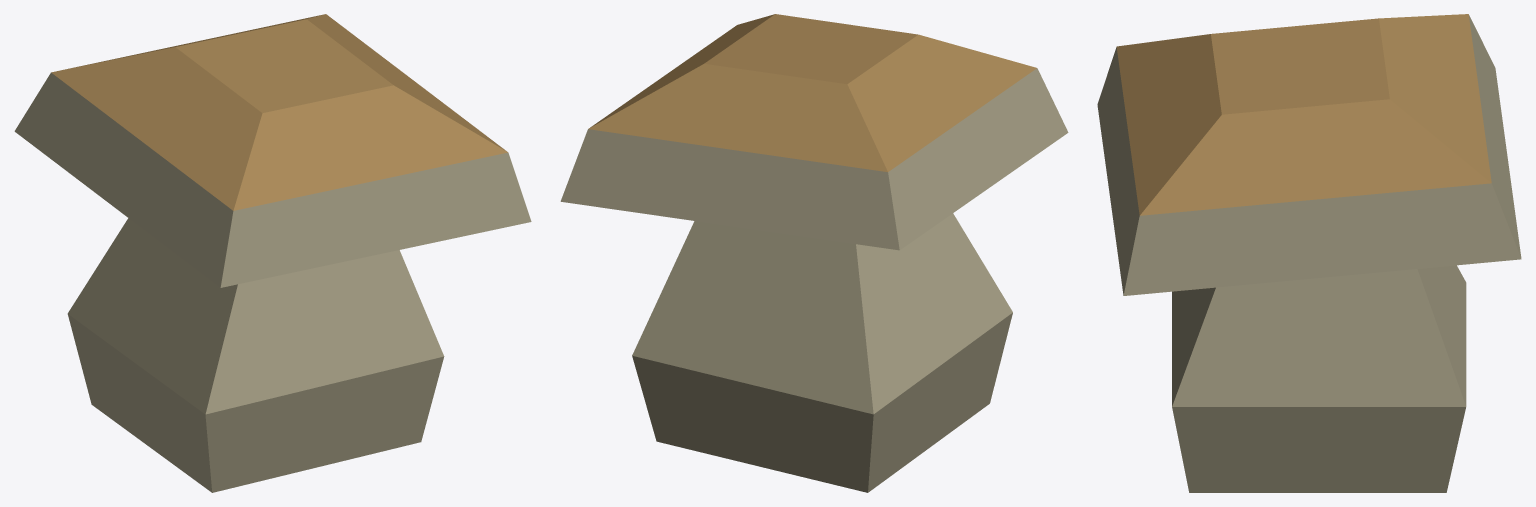
Rendered from mushroom03.fbx.
The picture shows the model from 3 angles, left to right: view 1: azimuth 30°, elevation 25°; view 2: azimuth 150°, elevation 25°; view 3: azimuth 270°, elevation 25°; orthographic projection. The views are drawn at different scales.
Visible parts, largest first — view 1: mushroom03; view 2: mushroom03; view 3: mushroom03.
Boxes of the visible parts, x1,y1,x2,y2 form: mushroom03: (14, 14, 531, 492); mushroom03: (560, 14, 1068, 492); mushroom03: (1097, 14, 1521, 492).
Bounding box in the file's own units: 5.3 × 5.44 × 5.33.
1 material, 1 textured.
